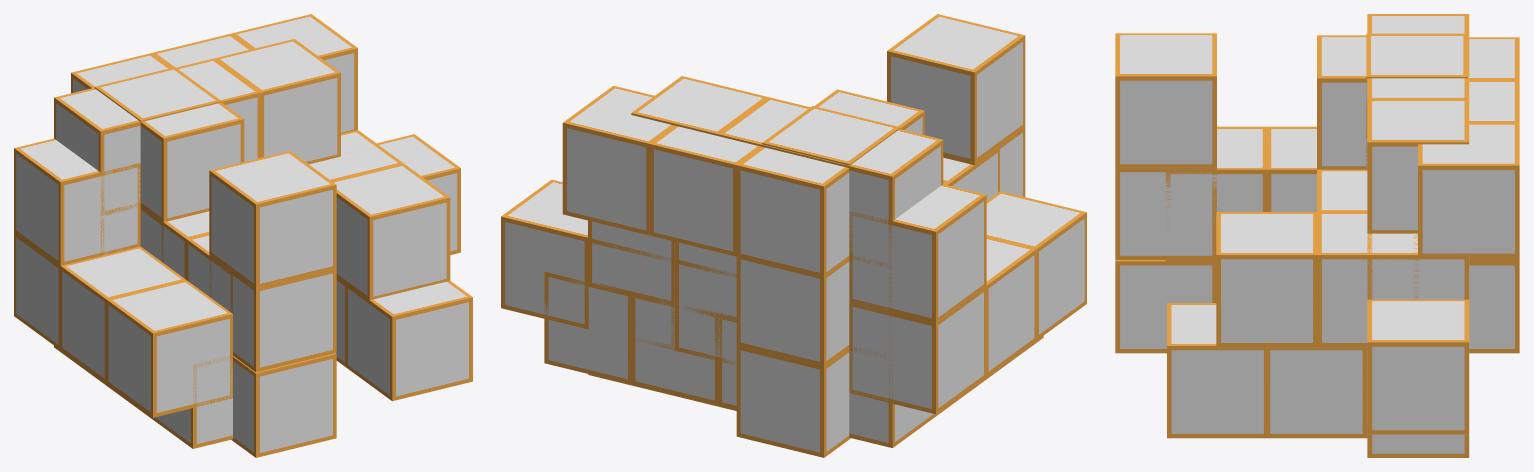
Rendered from khoi lap phuong.fbx.
3 views of the same model, side by side, from view 1: azimuth 30°, elevation 25°; view 2: azimuth 150°, elevation 25°; view 3: azimuth 270°, elevation 25° (orthographic). The views are drawn at different scales.
Parts seen in each view (by area): view 1: laphuong1, laphuong3, laphuong5, laphuong2, laphuong6, laphuong4; view 2: laphuong3, laphuong1, laphuong2, laphuong4, laphuong6, laphuong5; view 3: laphuong3, laphuong5, laphuong6, laphuong2, laphuong4, laphuong1.
Part boxes in pixels (box(x1,y1,x2,y2)): laphuong1: box(14, 134, 460, 417); laphuong3: box(71, 14, 357, 457); laphuong5: box(140, 102, 450, 301); laphuong2: box(54, 39, 340, 448); laphuong6: box(94, 67, 472, 401); laphuong4: box(150, 133, 375, 313); laphuong3: box(562, 14, 1025, 457); laphuong1: box(501, 179, 1086, 414); laphuong2: box(544, 76, 1043, 447); laphuong4: box(588, 144, 999, 318); laphuong6: box(588, 106, 900, 410); laphuong5: box(814, 89, 924, 134); laphuong3: box(1115, 33, 1519, 353); laphuong5: box(1216, 35, 1418, 347); laphuong6: box(1167, 33, 1467, 438); laphuong2: box(1367, 14, 1469, 457); laphuong4: box(1165, 35, 1469, 299); laphuong1: box(1367, 299, 1469, 434).
Size of the model in its own units: 115 by 69.7 by 92.2.
1 material, 1 textured.
